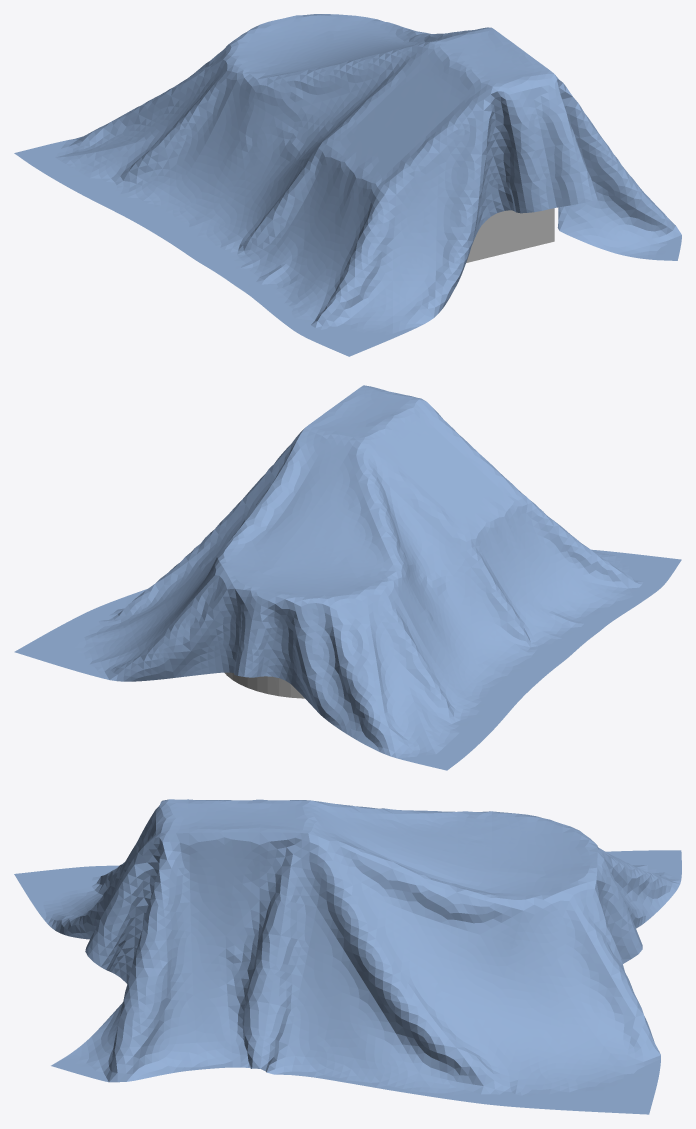
Rendered from level_2.glb.
3 renders of one model, top to bottom at view 1: azimuth 30°, elevation 25°; view 2: azimuth 150°, elevation 25°; view 3: azimuth 270°, elevation 25°, orthographic. The views are drawn at different scales.
Visible parts, largest first — view 1: world, object.obj; view 2: world, object.obj; view 3: world.
Boxes of the visible parts, x1,y1,x2,y2 form: world: [14, 14, 681, 356]; object.obj: [466, 208, 554, 262]; world: [14, 385, 681, 770]; object.obj: [224, 672, 304, 698]; world: [14, 799, 681, 1114].
Size of the model in its own units: 0.5559 by 0.1894 by 0.5936.
